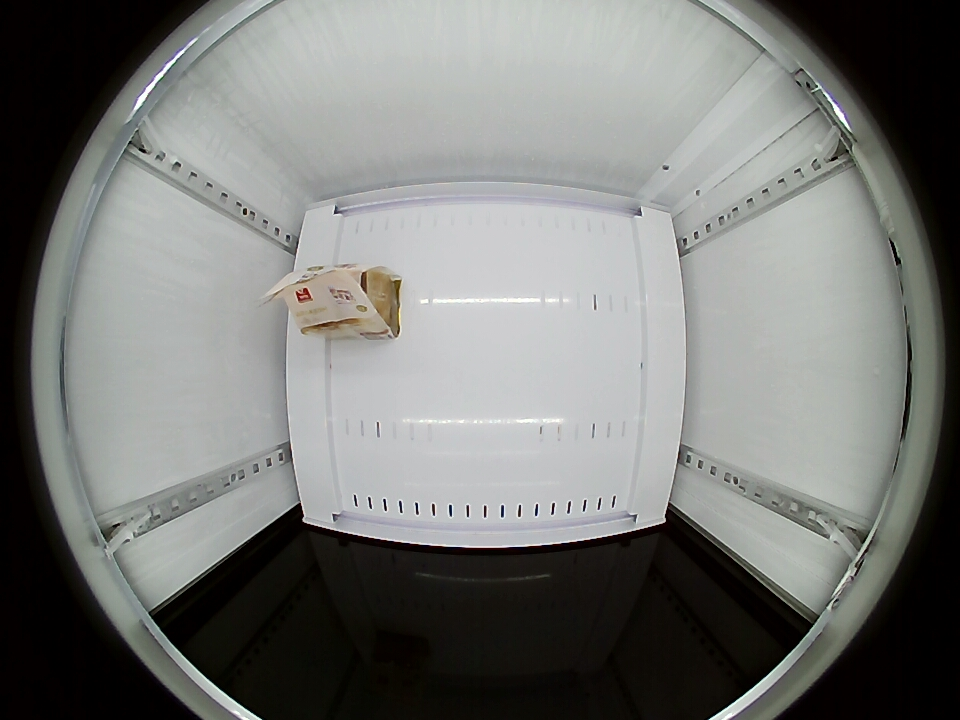zaocanmofang: (270, 264, 394, 333)
